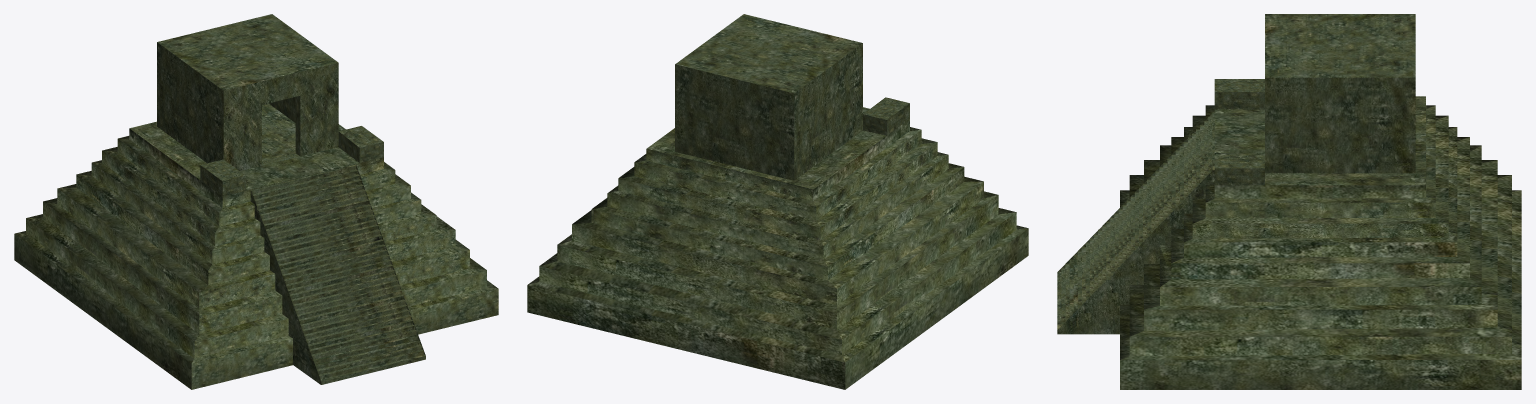
3 views of the same model, side by side, from view 1: azimuth 30°, elevation 25°; view 2: azimuth 150°, elevation 25°; view 3: azimuth 270°, elevation 25° (orthographic). The views are drawn at different scales.
Parts seen in each view (by area): view 1: Pyramid; view 2: Pyramid; view 3: Pyramid.
Part boxes in pixels (box(x1,y1,x2,y2)): Pyramid: box(14, 14, 498, 389); Pyramid: box(527, 14, 1028, 389); Pyramid: box(1057, 14, 1521, 389).
Size of the model in its own units: 430 by 306 by 497.
Materials: 1 (1 with a texture image).
